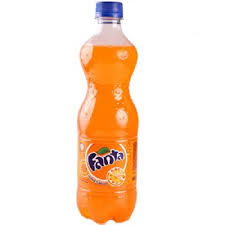fanta_bottle: (76, 1, 139, 225)
